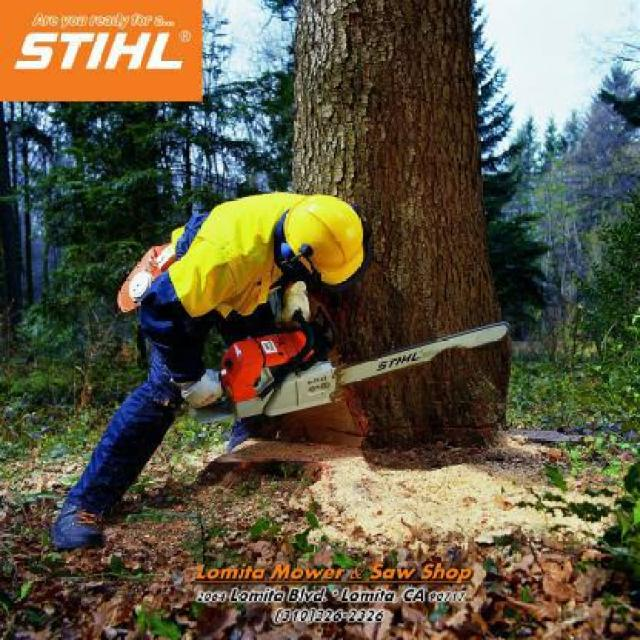Chainsaw: (182, 318, 518, 419)
